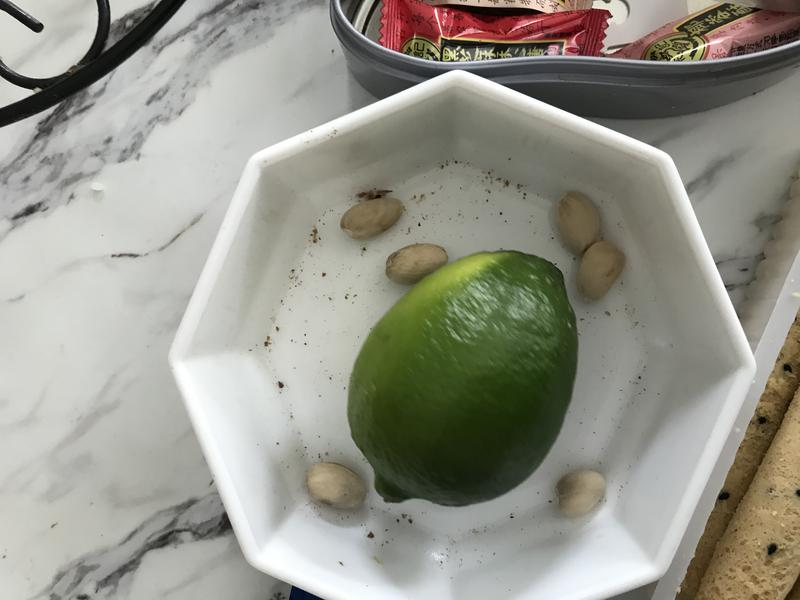lime: (338, 231, 591, 527)
